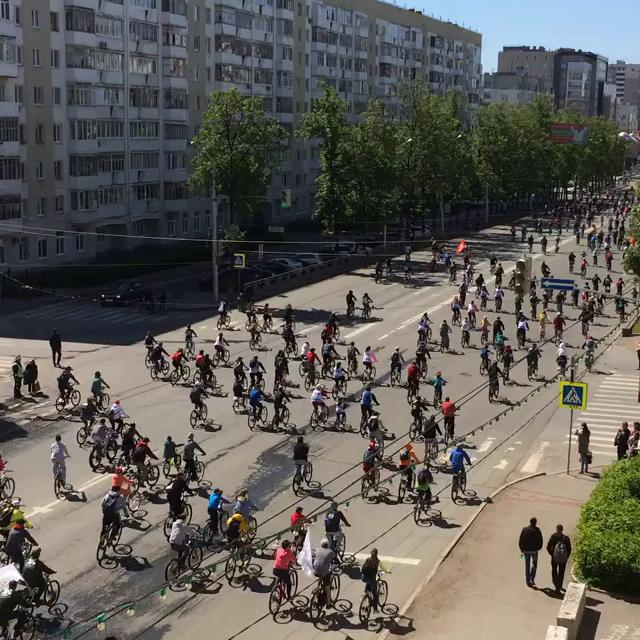bicycle: (308, 568, 352, 630), (358, 571, 399, 628), (164, 534, 204, 591), (268, 563, 308, 616), (96, 515, 133, 569), (224, 535, 263, 585), (28, 573, 68, 617), (0, 607, 39, 639), (163, 494, 192, 537), (410, 487, 441, 527), (88, 431, 118, 471), (360, 464, 389, 503), (450, 466, 477, 505), (292, 460, 321, 496), (203, 507, 229, 547), (326, 524, 347, 563), (290, 517, 313, 552), (132, 458, 159, 487), (123, 475, 143, 514), (397, 462, 416, 502), (53, 462, 73, 499), (180, 454, 204, 483), (55, 383, 80, 410), (76, 414, 97, 446), (247, 401, 268, 430), (189, 399, 209, 428), (309, 402, 329, 431), (408, 415, 427, 443), (272, 403, 290, 432), (162, 452, 182, 477), (150, 355, 169, 380), (170, 361, 190, 384), (334, 404, 349, 432), (232, 390, 249, 414), (303, 364, 318, 391), (91, 388, 109, 410), (212, 346, 231, 366), (359, 360, 376, 382)
